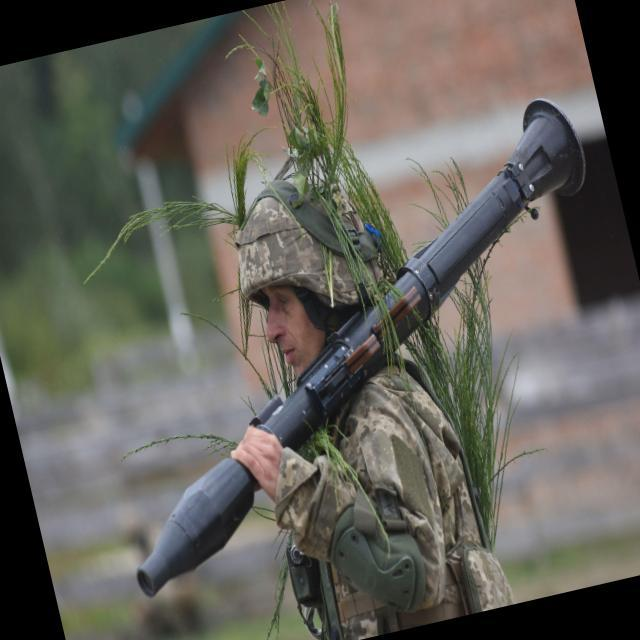rocket: (52, 91, 640, 598)
